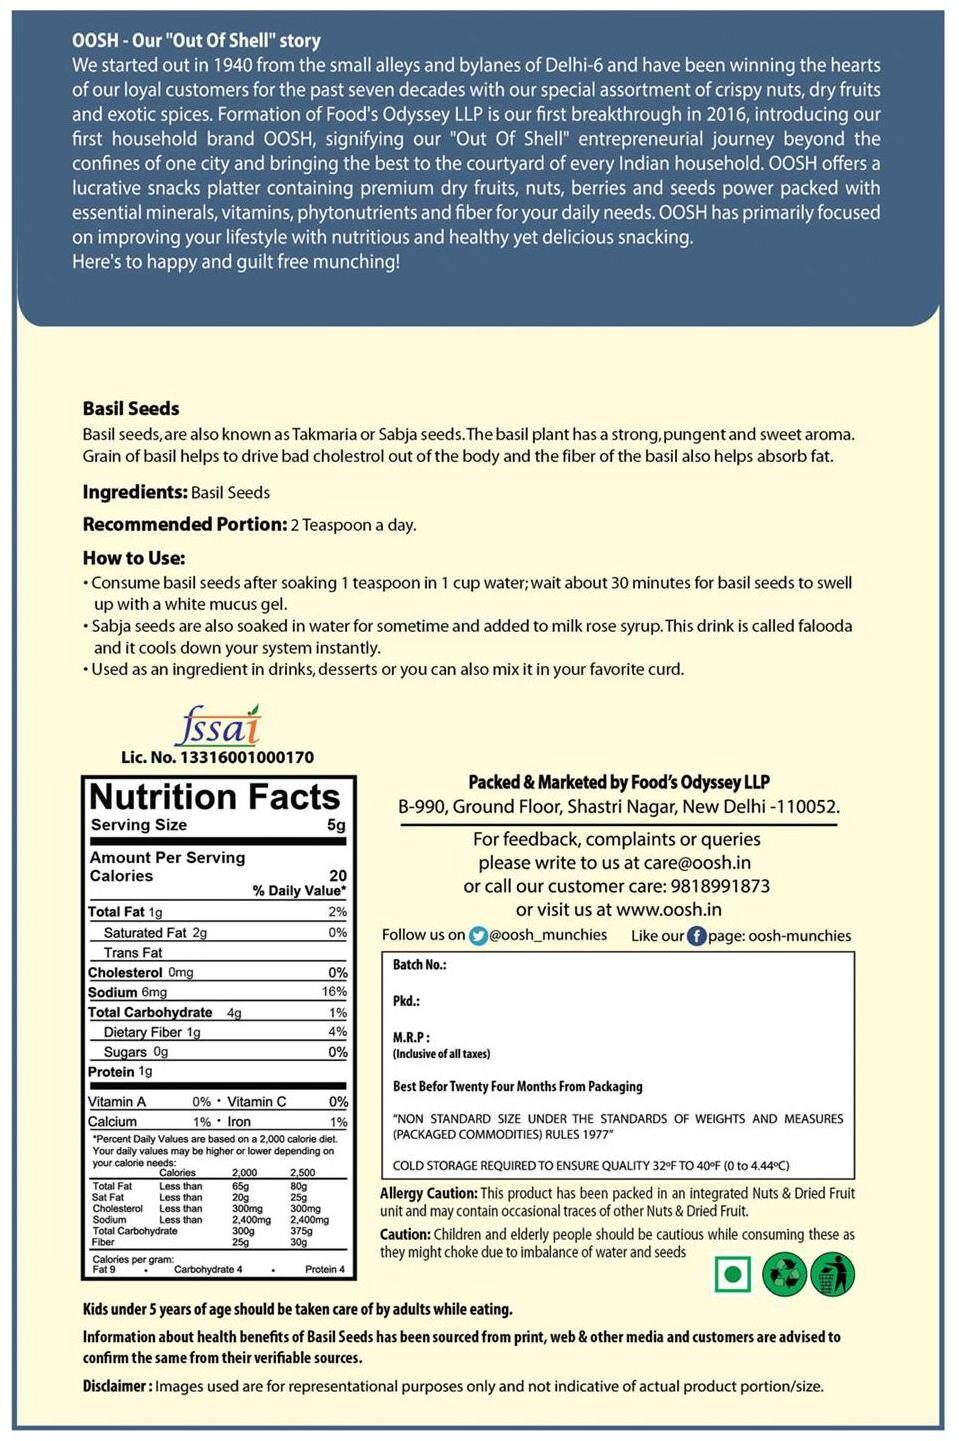fssai: (172, 703, 265, 748)
